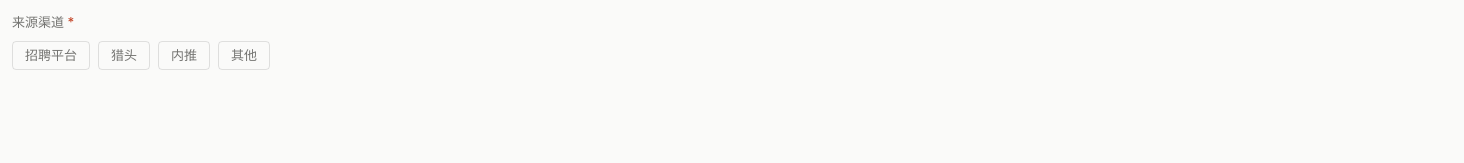
Test: SourceChannelPicker › 无平台时显示暂无平台
Click the button with class "channel-tab" showing "招聘平台" at (51,55), box [12, 40, 90, 70]
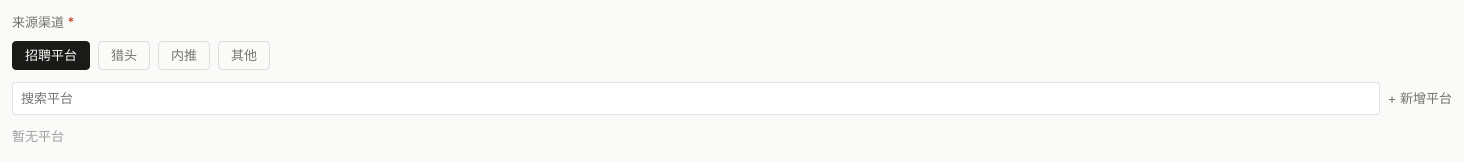
Result: the text "暂无平台" is shown at [12, 127, 64, 146]
